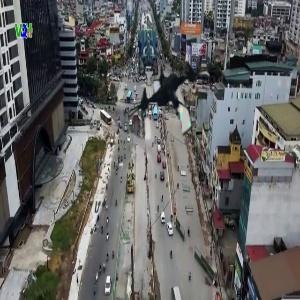drone: (127, 54, 216, 143)
